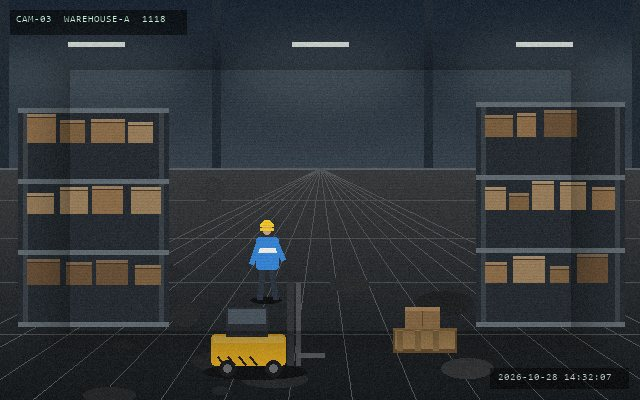forklift: (207, 280, 326, 379)
pallet: (391, 326, 458, 354)
person: (249, 218, 285, 302)
shelf: (476, 102, 624, 322), (18, 108, 168, 322)
